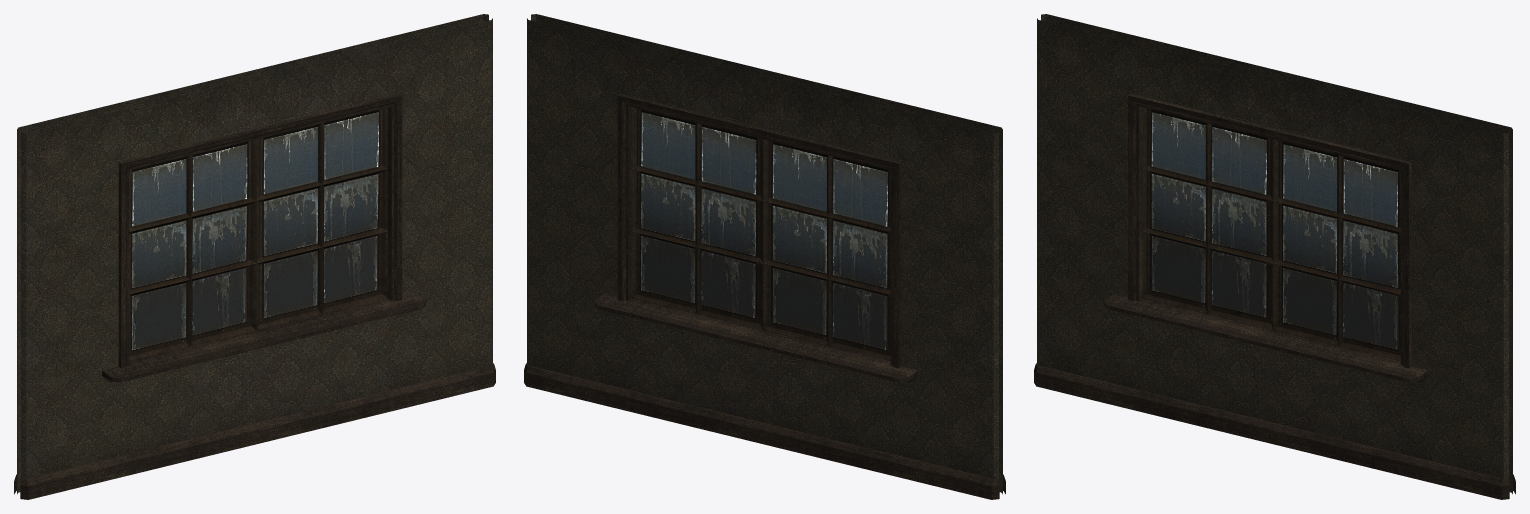
Rendered from window_2_1_double.glb.
3 renders of one model, left to right at view 1: azimuth 30°, elevation 25°; view 2: azimuth 150°, elevation 25°; view 3: azimuth 330°, elevation 25°, orthographic.
Parts seen in each view (by area): view 1: window_2_1_double; view 2: window_2_1_double; view 3: window_2_1_double.
Part boxes in pixels (x1,y1,x2,y2): window_2_1_double: (14,14,495,499); window_2_1_double: (524,14,1005,499); window_2_1_double: (1034,14,1515,499).
Size of the model in its own units: 4.09 by 3 by 0.52.
Materials: 3 (3 with a texture image).
